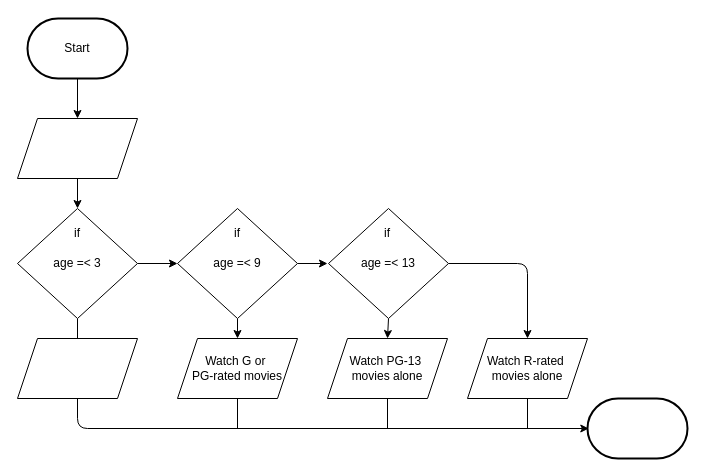
This 706x476 diagram has some shape labels left out. The centre of each missing label's shape, as x and y in pixels:
"Stop" belongs at [637,428].
"User enters their age" belongs at [77,148].
"watch G-rated movies alone" belongs at [77,368].
